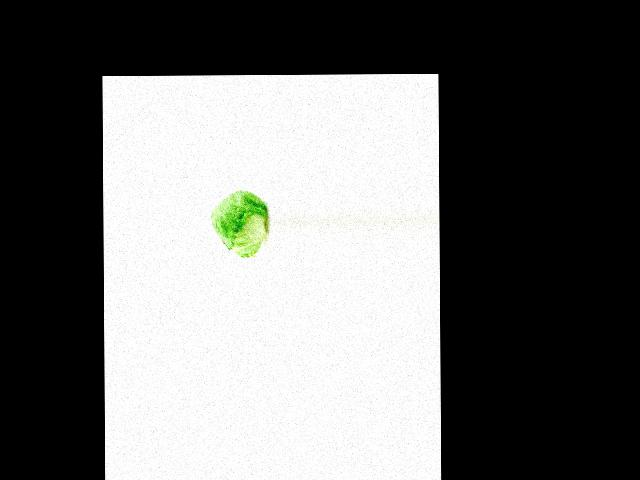lettuce: (209, 188, 267, 257)
